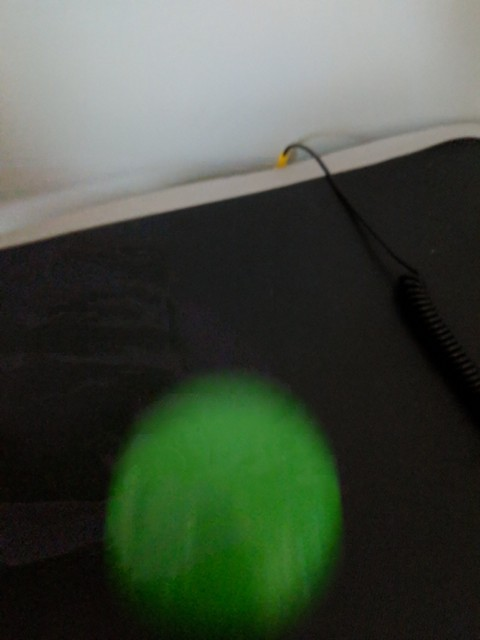ball: (109, 376, 344, 632)
